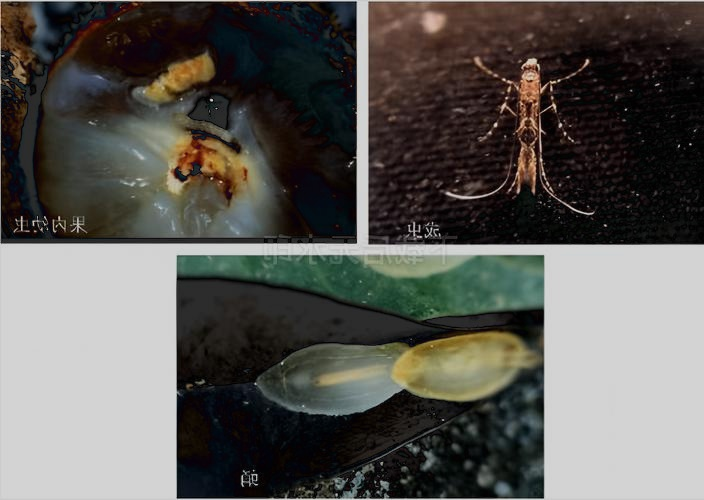Borer: (494, 56, 560, 196), (277, 348, 405, 402), (125, 42, 215, 90), (168, 109, 257, 138)
